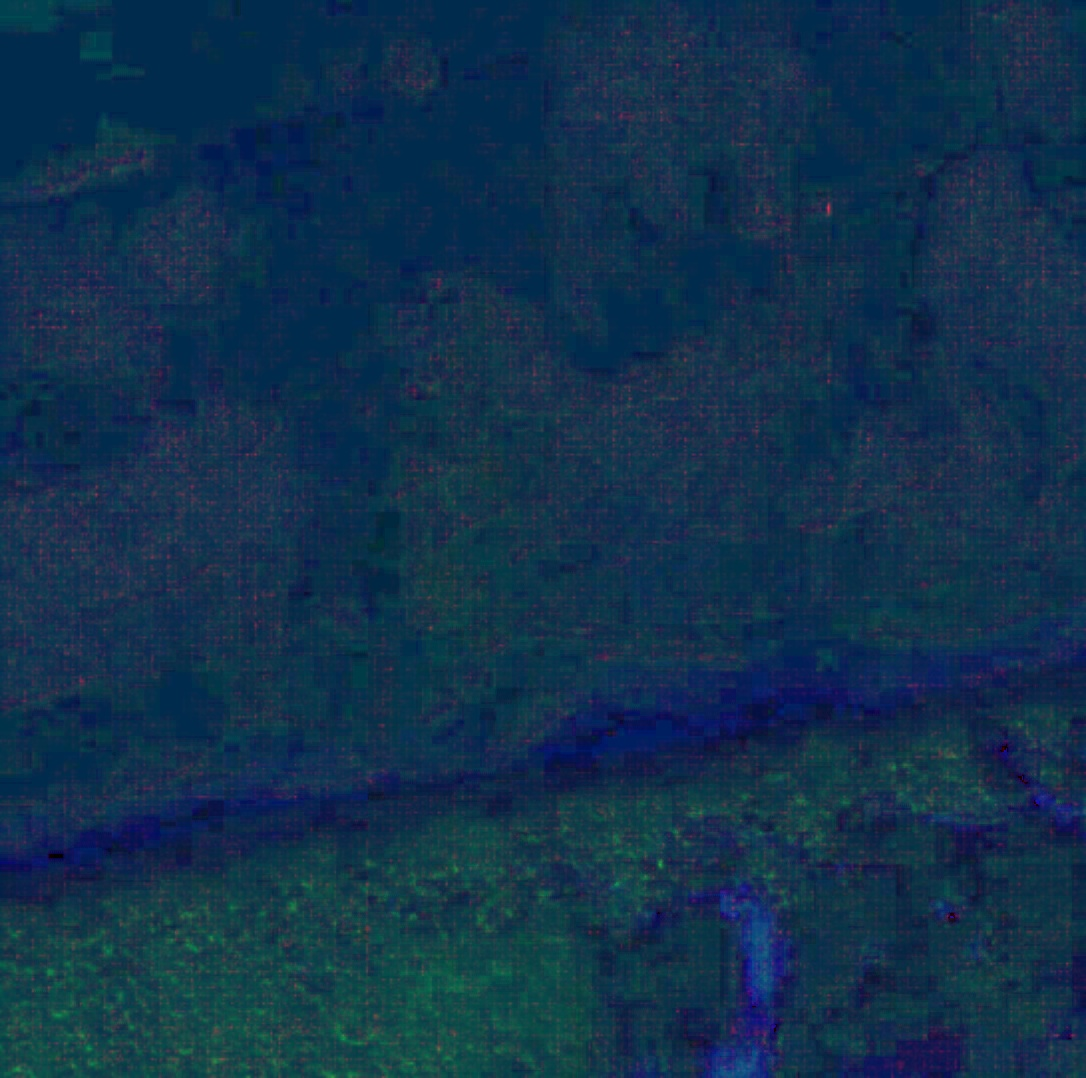rip_current: (215, 332, 515, 790)
